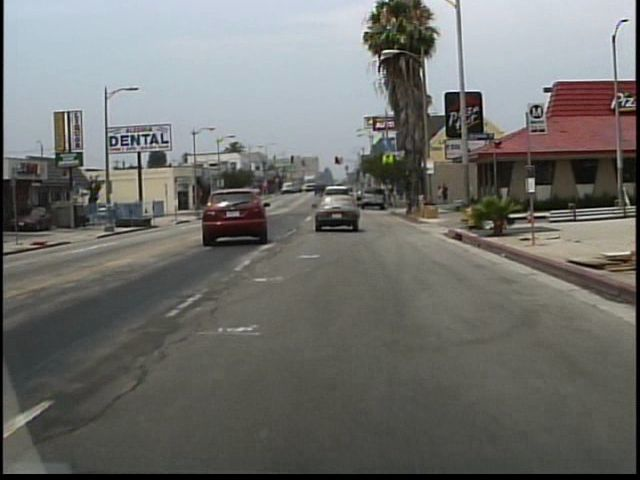person: (442, 183, 450, 205), (436, 184, 443, 206)
